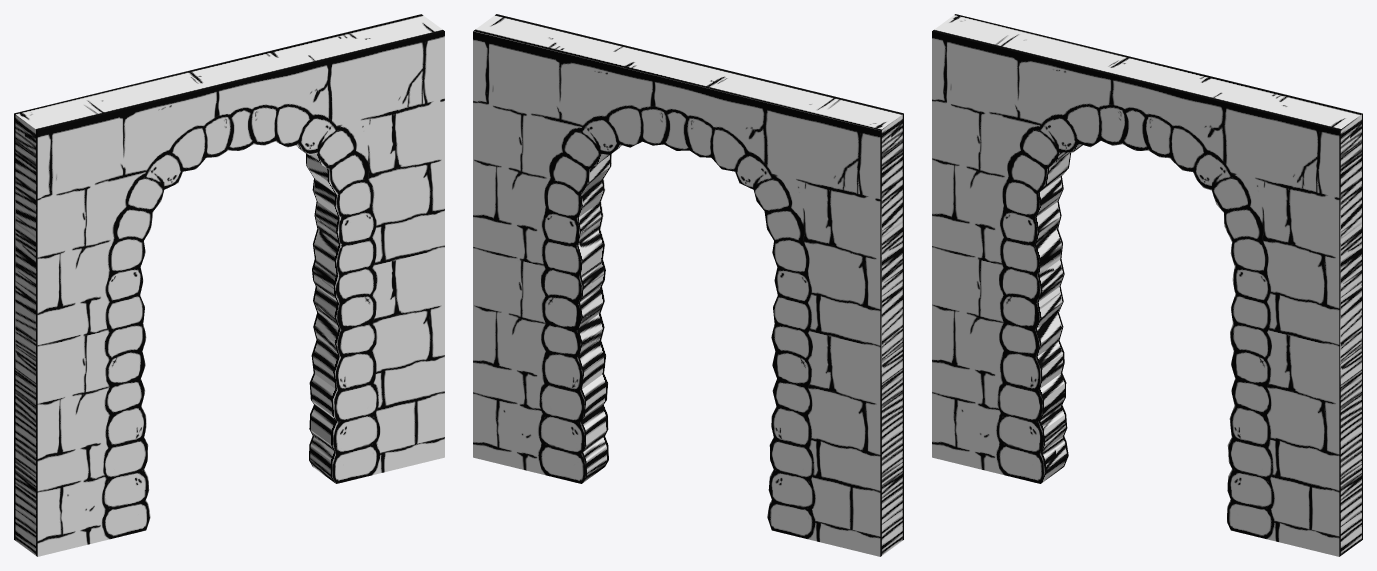
Rendered from DoorDraw.fbx.
3 renders of one model, left to right at view 1: azimuth 30°, elevation 25°; view 2: azimuth 150°, elevation 25°; view 3: azimuth 330°, elevation 25°, orthographic.
Parts seen in each view (by area): view 1: Cube.003; view 2: Cube.003; view 3: Cube.003.
Part boxes in pixels (<box>): Cube.003: <box>14,14,444,556</box>; Cube.003: <box>473,14,903,556</box>; Cube.003: <box>932,14,1362,556</box>.
Size of the model in its own units: 10 by 10 by 1.
